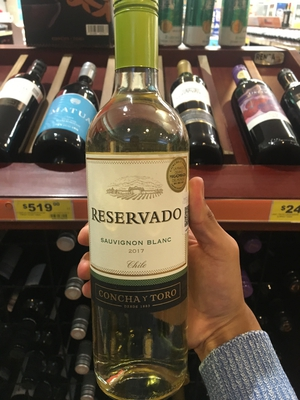reservado sauvignon blanc: (72, 3, 205, 385)
